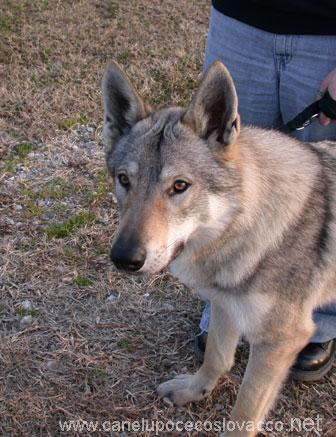German_shepherd: (99, 59, 334, 435)
